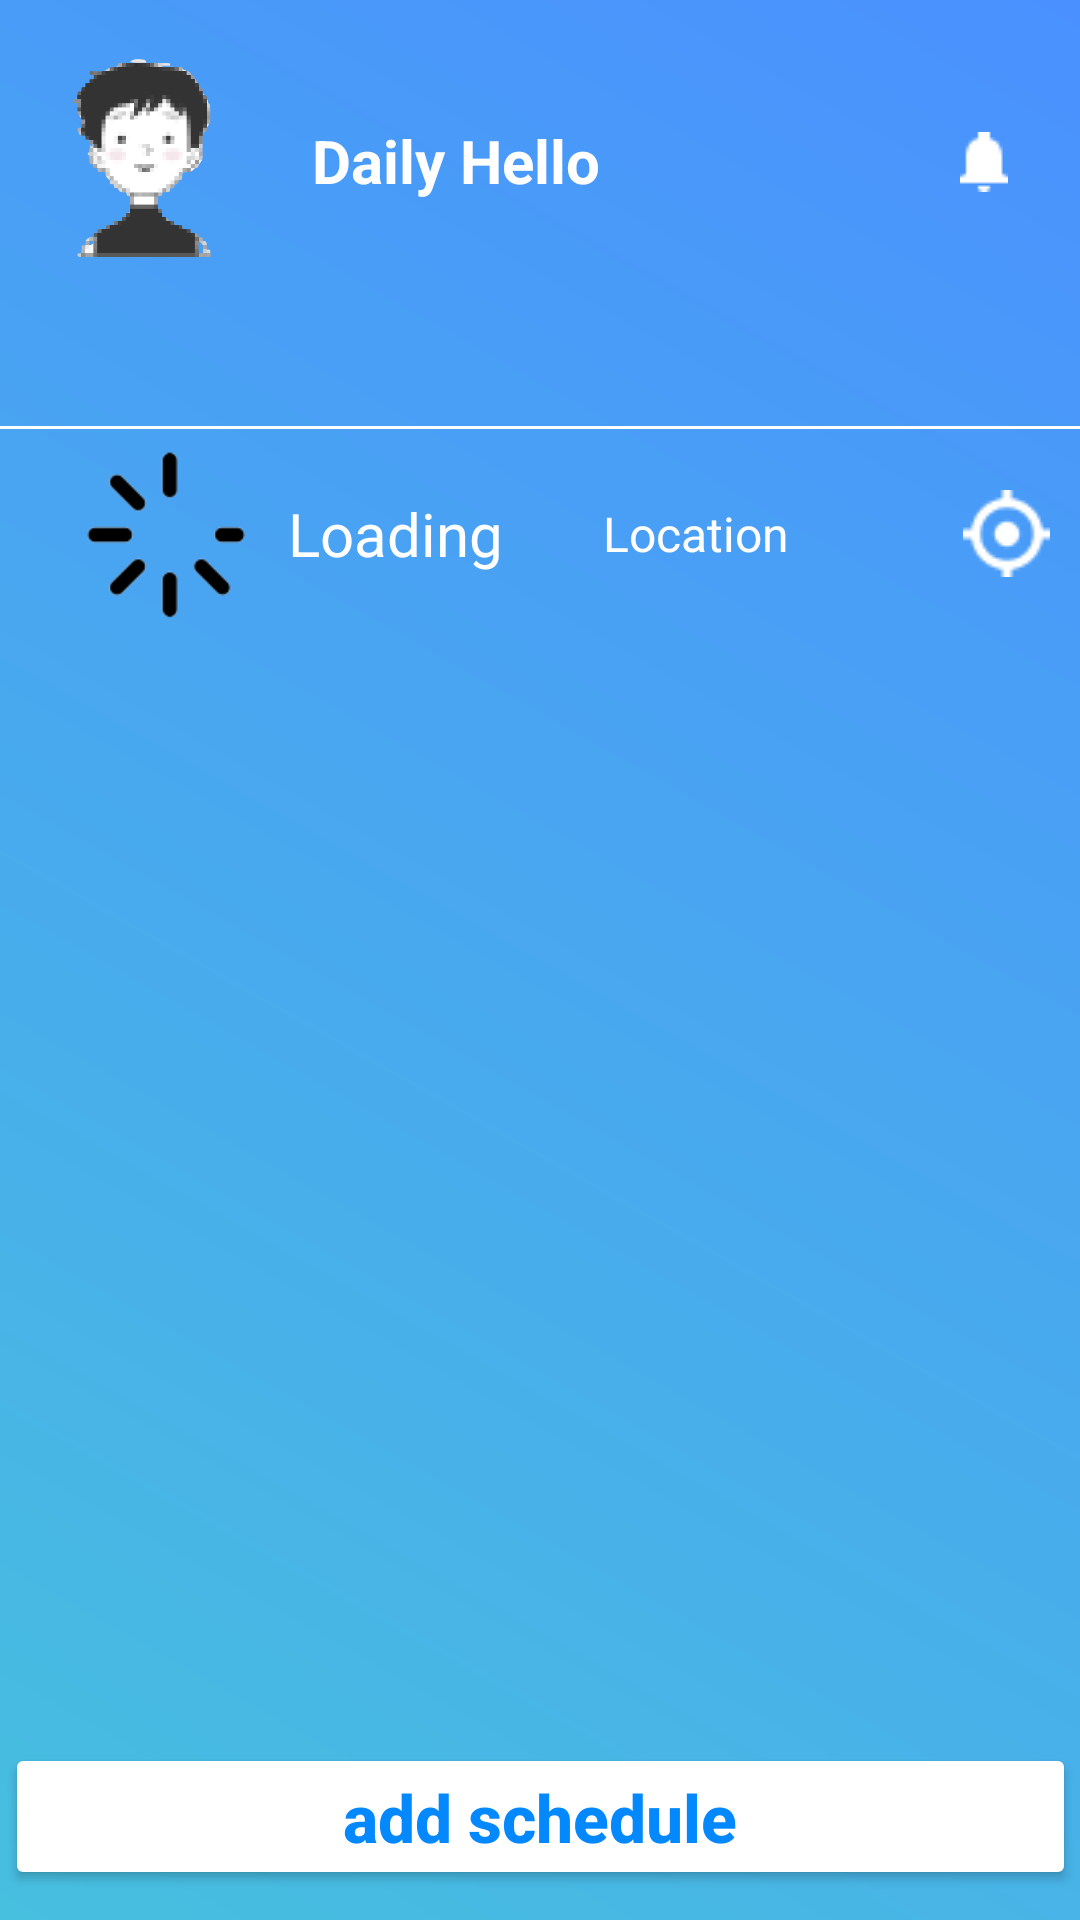

Icon click points for this 1080px×1920px phone screenshot, format (x=x, y=y):
alarm: (x=984, y=162)
human: (x=142, y=158)
